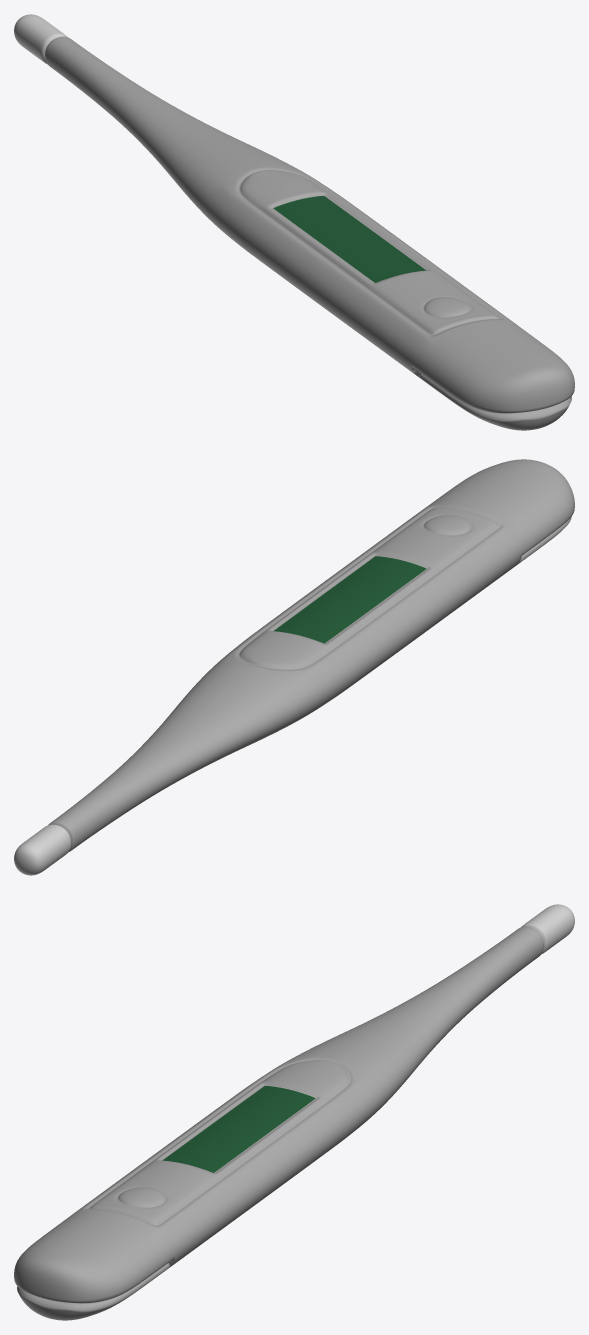
Rendered from 脇体温計.fbx.
3 renders of one model, top to bottom at view 1: azimuth 30°, elevation 25°; view 2: azimuth 150°, elevation 25°; view 3: azimuth 330°, elevation 25°, orthographic.
Visible parts, largest first — view 1: Body, Glass, Head; view 2: Body, Glass, Head; view 3: Body, Glass, Head.
Part boxes in pixels (x1,y1,x2,y2): Body: (45,36,574,430); Glass: (273,196,426,282); Head: (14,14,67,64); Body: (48,459,574,852); Glass: (273,556,426,643); Head: (14,824,70,875); Body: (14,926,543,1320); Glass: (162,1086,315,1172); Head: (521,904,574,954).
Bounding box in the file's own units: 0.594 × 0.3129 × 4.86.
